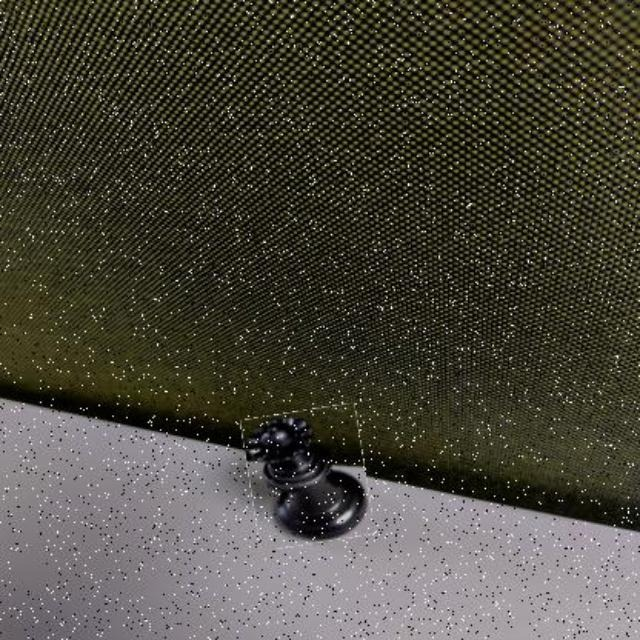black-queen: (245, 407, 369, 547)
